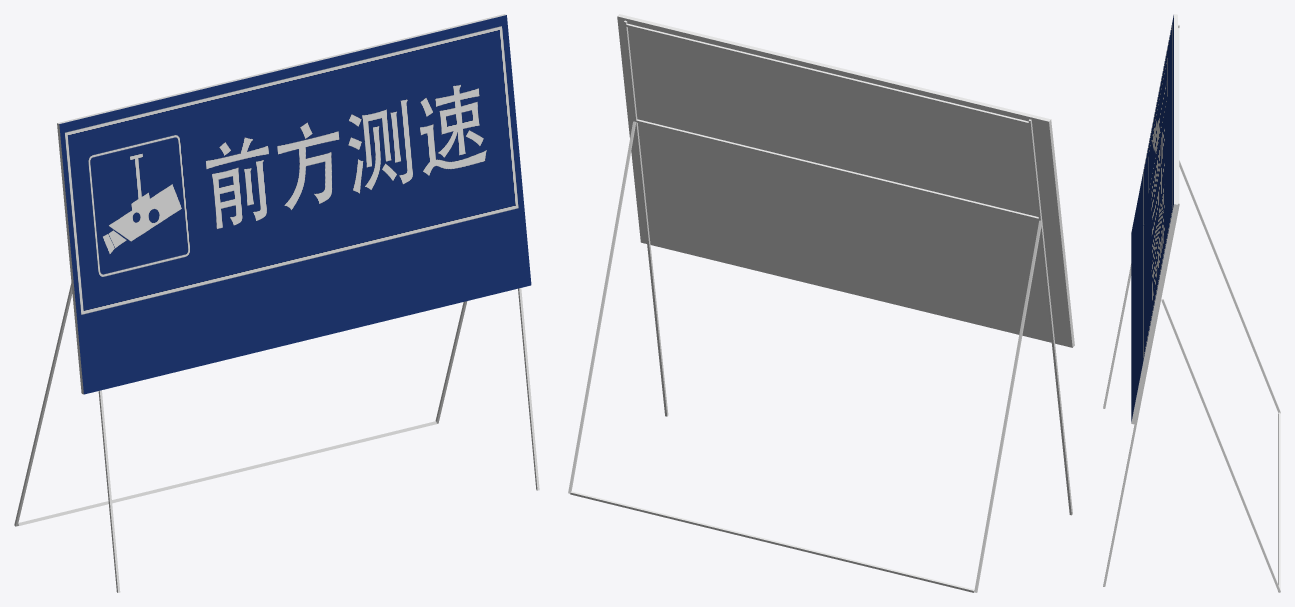
The model's file is 前方测速.glb.
3 renders of one model, left to right at view 1: azimuth 30°, elevation 25°; view 2: azimuth 150°, elevation 25°; view 3: azimuth 270°, elevation 25°, orthographic. The views are drawn at different scales.
Visible parts, largest first — view 1: 立方体.2-材质.6, 立方体.2-材质_5, 立方体.18, 立方体.19, 立方体.9, 立方体.8; view 2: 立方体.2-材质_5, 立方体.18, 立方体.11, 立方体.10, 立方体.8, 立方体.9, 立方体.19, 立方体.12; view 3: 立方体.2-材质.6, 立方体.2-材质_5, 立方体.8, 立方体.12, 立方体.19, 立方体.18, 立方体.9, 立方体.10.
Part boxes in pixels (x1,y1,x2,y2): 立方体.2-材质.6: [59, 15, 531, 394]; 立方体.2-材质_5: [57, 14, 506, 394]; 立方体.18: [18, 421, 436, 525]; 立方体.19: [14, 283, 72, 526]; 立方体.9: [98, 390, 120, 592]; 立方体.8: [518, 288, 539, 490]; 立方体.2-材质_5: [617, 14, 1074, 347]; 立方体.18: [570, 491, 974, 592]; 立方体.11: [636, 119, 1039, 220]; 立方体.10: [626, 23, 1028, 124]; 立方体.8: [624, 20, 668, 416]; 立方体.9: [1028, 119, 1072, 515]; 立方体.19: [974, 220, 1042, 592]; 立方体.12: [568, 121, 636, 493]; 立方体.2-材质.6: [1131, 15, 1173, 421]; 立方体.2-材质_5: [1131, 14, 1177, 424]; 立方体.8: [1103, 203, 1179, 586]; 立方体.12: [1161, 299, 1280, 592]; 立方体.19: [1179, 160, 1280, 413]; 立方体.18: [1278, 412, 1280, 591]; 立方体.9: [1103, 24, 1179, 408]; 立方体.10: [1178, 28, 1179, 202].
Bounding box in the file's own units: 14.09 × 13.57 × 5.57.
3 materials, 1 textured.
